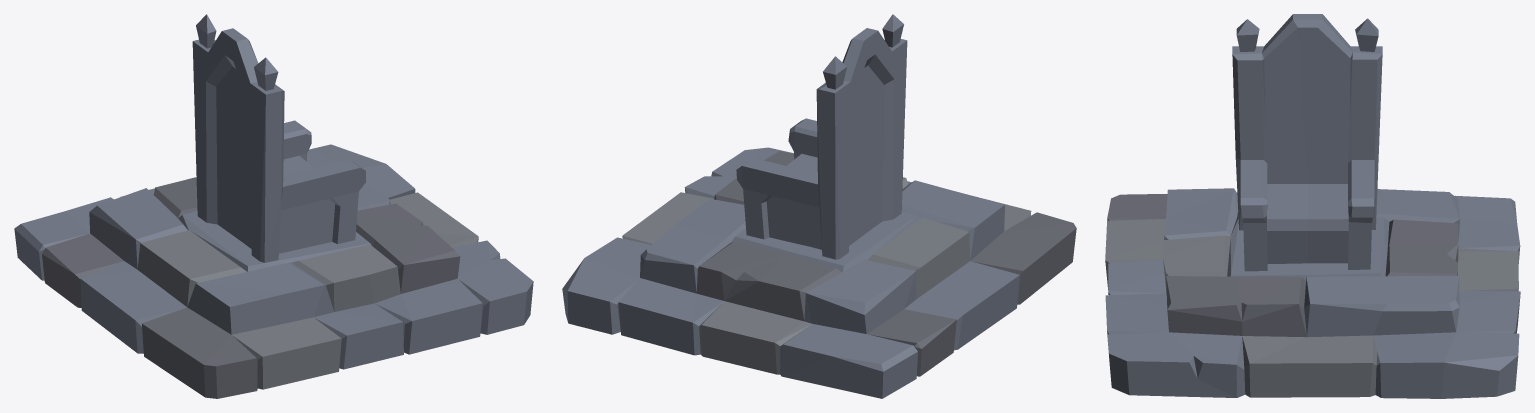
File: Throne.fbx
The picture shows the model from 3 angles, left to right: view 1: azimuth 30°, elevation 25°; view 2: azimuth 150°, elevation 25°; view 3: azimuth 270°, elevation 25°; orthographic projection. The views are drawn at different scales.
Visible parts, largest first — view 1: Throne; view 2: Throne; view 3: Throne.
Boxes of the visible parts, x1=… form: Throne: x1=14, y1=14, x2=533, y2=398; Throne: x1=562, y1=14, x2=1076, y2=398; Throne: x1=1105, y1=14, x2=1520, y2=398.
Size of the model in its own units: 77.06 by 56.91 by 78.19.
